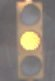Yellow: (12, 3, 47, 81)
